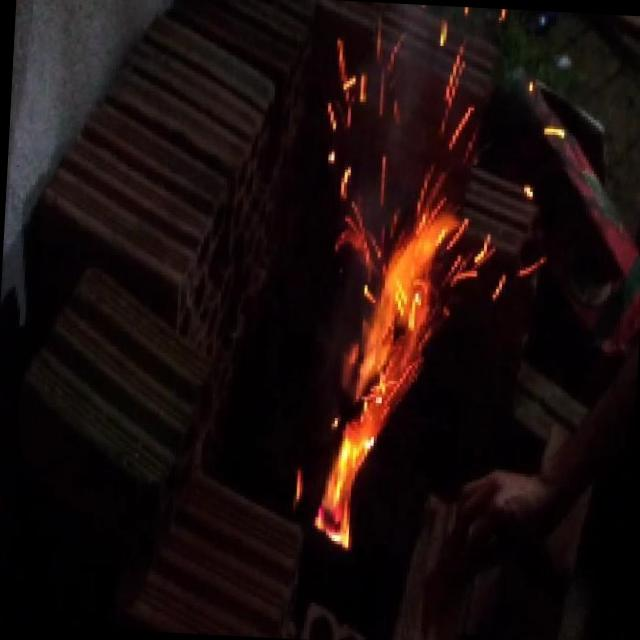fire: (280, 163, 482, 562)
